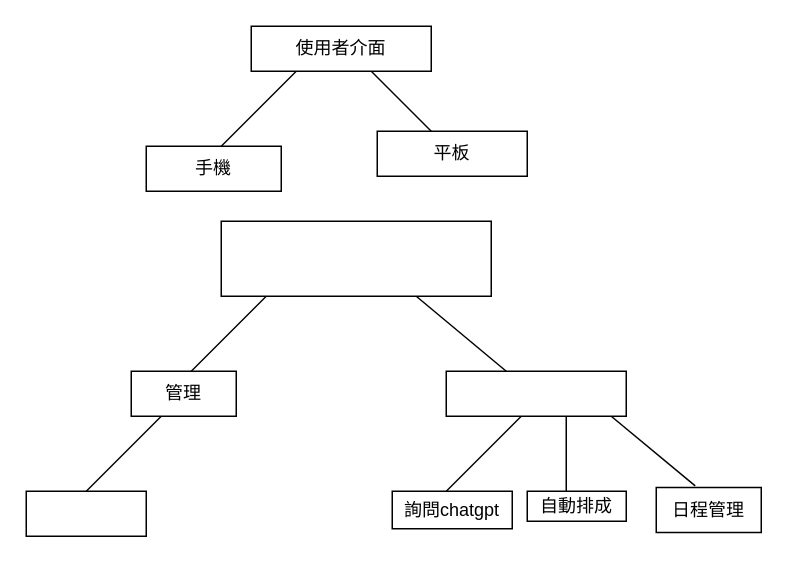
The diagram is 788 pixels wide and 567 high, and some of its shapes have lost their labels. Each missing label, with the centre of its shape:
"帳戶" belongs at (85,513).
"排成系統(ios系統)" belongs at (355,258).
"排成系統操作" belongs at (535,393).
